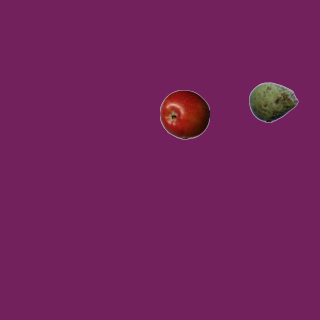Apple Braeburn: (159, 89, 209, 139)
Pear Stone: (248, 77, 298, 127)
